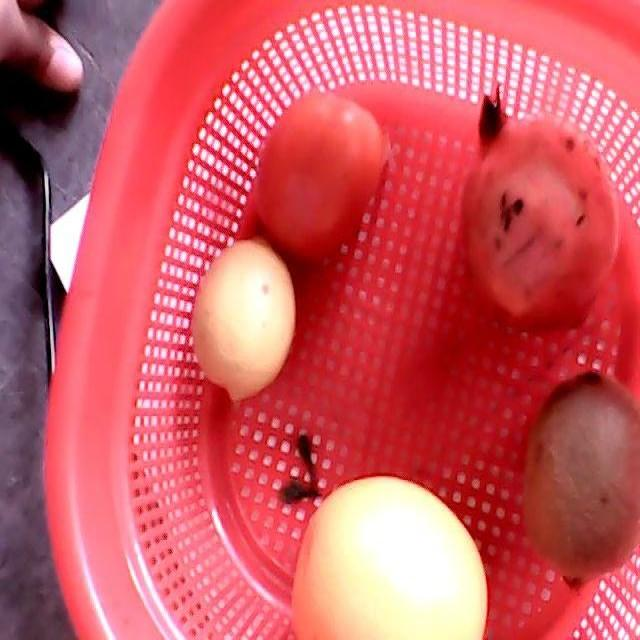kiwi: (523, 369, 638, 596)
lemon: (190, 237, 294, 399)
orange: (291, 477, 486, 638)
pomegranate: (460, 85, 619, 331)
tomato: (255, 89, 385, 256)
